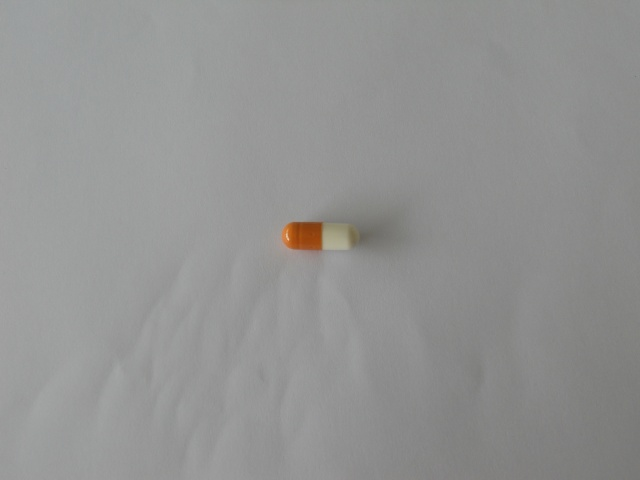capsule: (280, 218, 363, 256)
